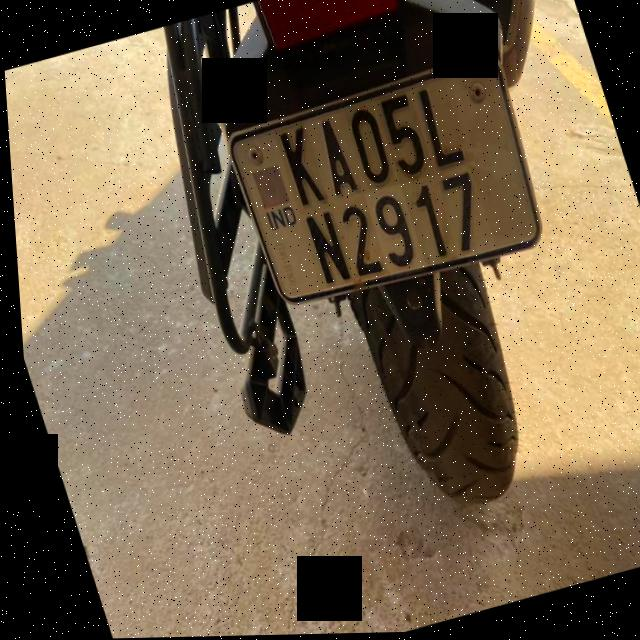0: (341, 104, 394, 191)
1: (402, 180, 457, 268)
5: (371, 91, 433, 186)
7: (431, 169, 493, 261)
9: (361, 185, 424, 282)
A: (305, 112, 361, 206)
K: (270, 119, 328, 217)
L: (412, 83, 467, 173)
N: (292, 202, 356, 297)
